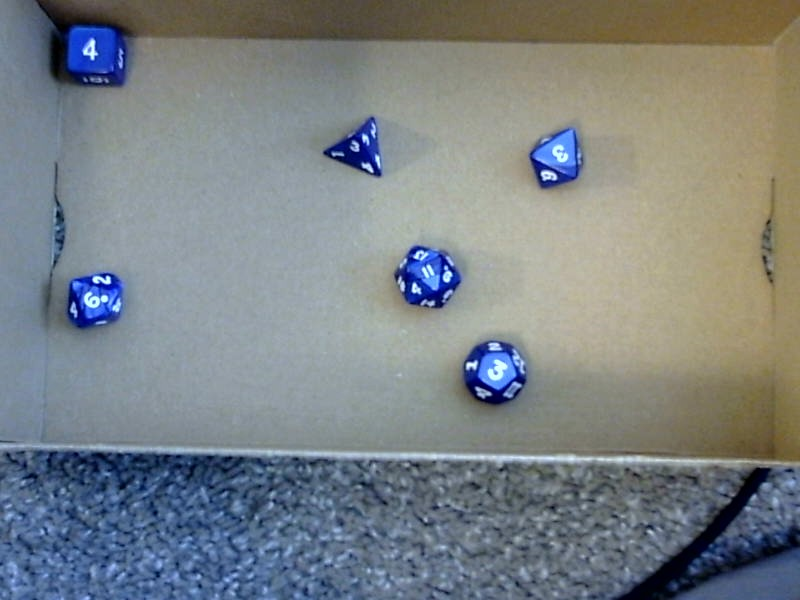d10 6: (61, 267, 125, 331)
d12 3: (462, 336, 528, 407)
d20 11: (390, 240, 461, 311)
d4 3: (318, 105, 383, 180)
d6 4: (60, 20, 137, 88)
d8 3: (530, 125, 583, 189)
